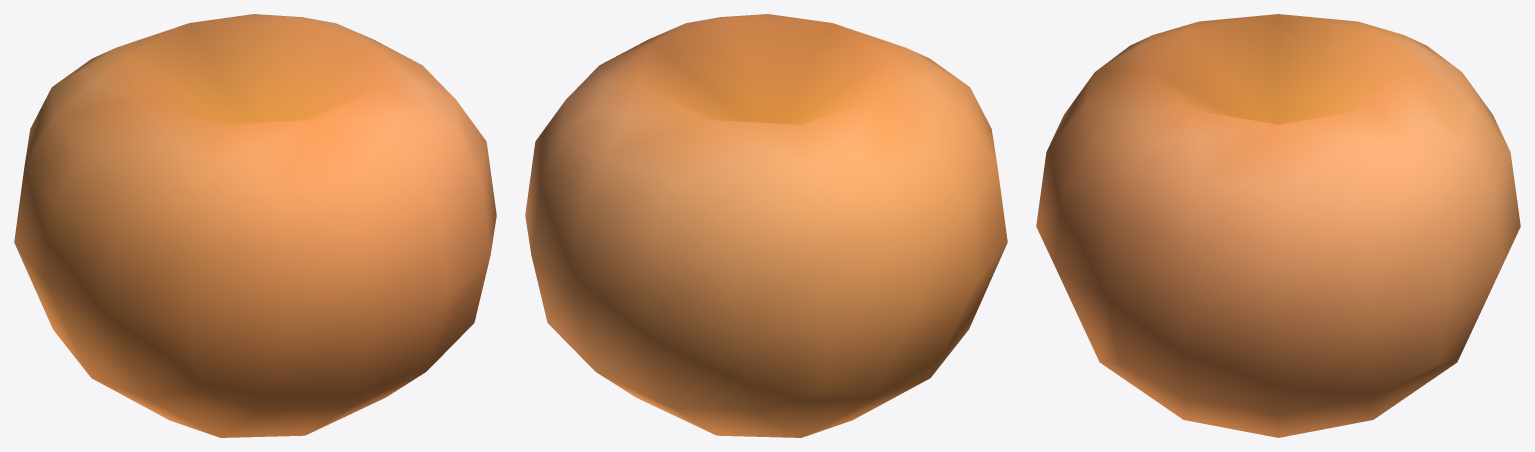
Rendered from greens_007.fbx.
3 views of the same model, side by side, from view 1: azimuth 30°, elevation 25°; view 2: azimuth 150°, elevation 25°; view 3: azimuth 270°, elevation 25° (orthographic).
Parts seen in each view (by area): view 1: greens_007; view 2: greens_007; view 3: greens_007.
Boxes of the visible parts, box(x1,y1,x2,y2) form: greens_007: box(14, 14, 496, 437); greens_007: box(525, 14, 1007, 437); greens_007: box(1036, 14, 1520, 437).
Bounding box in the file's own units: 2.18 × 2.18 × 1.71.
